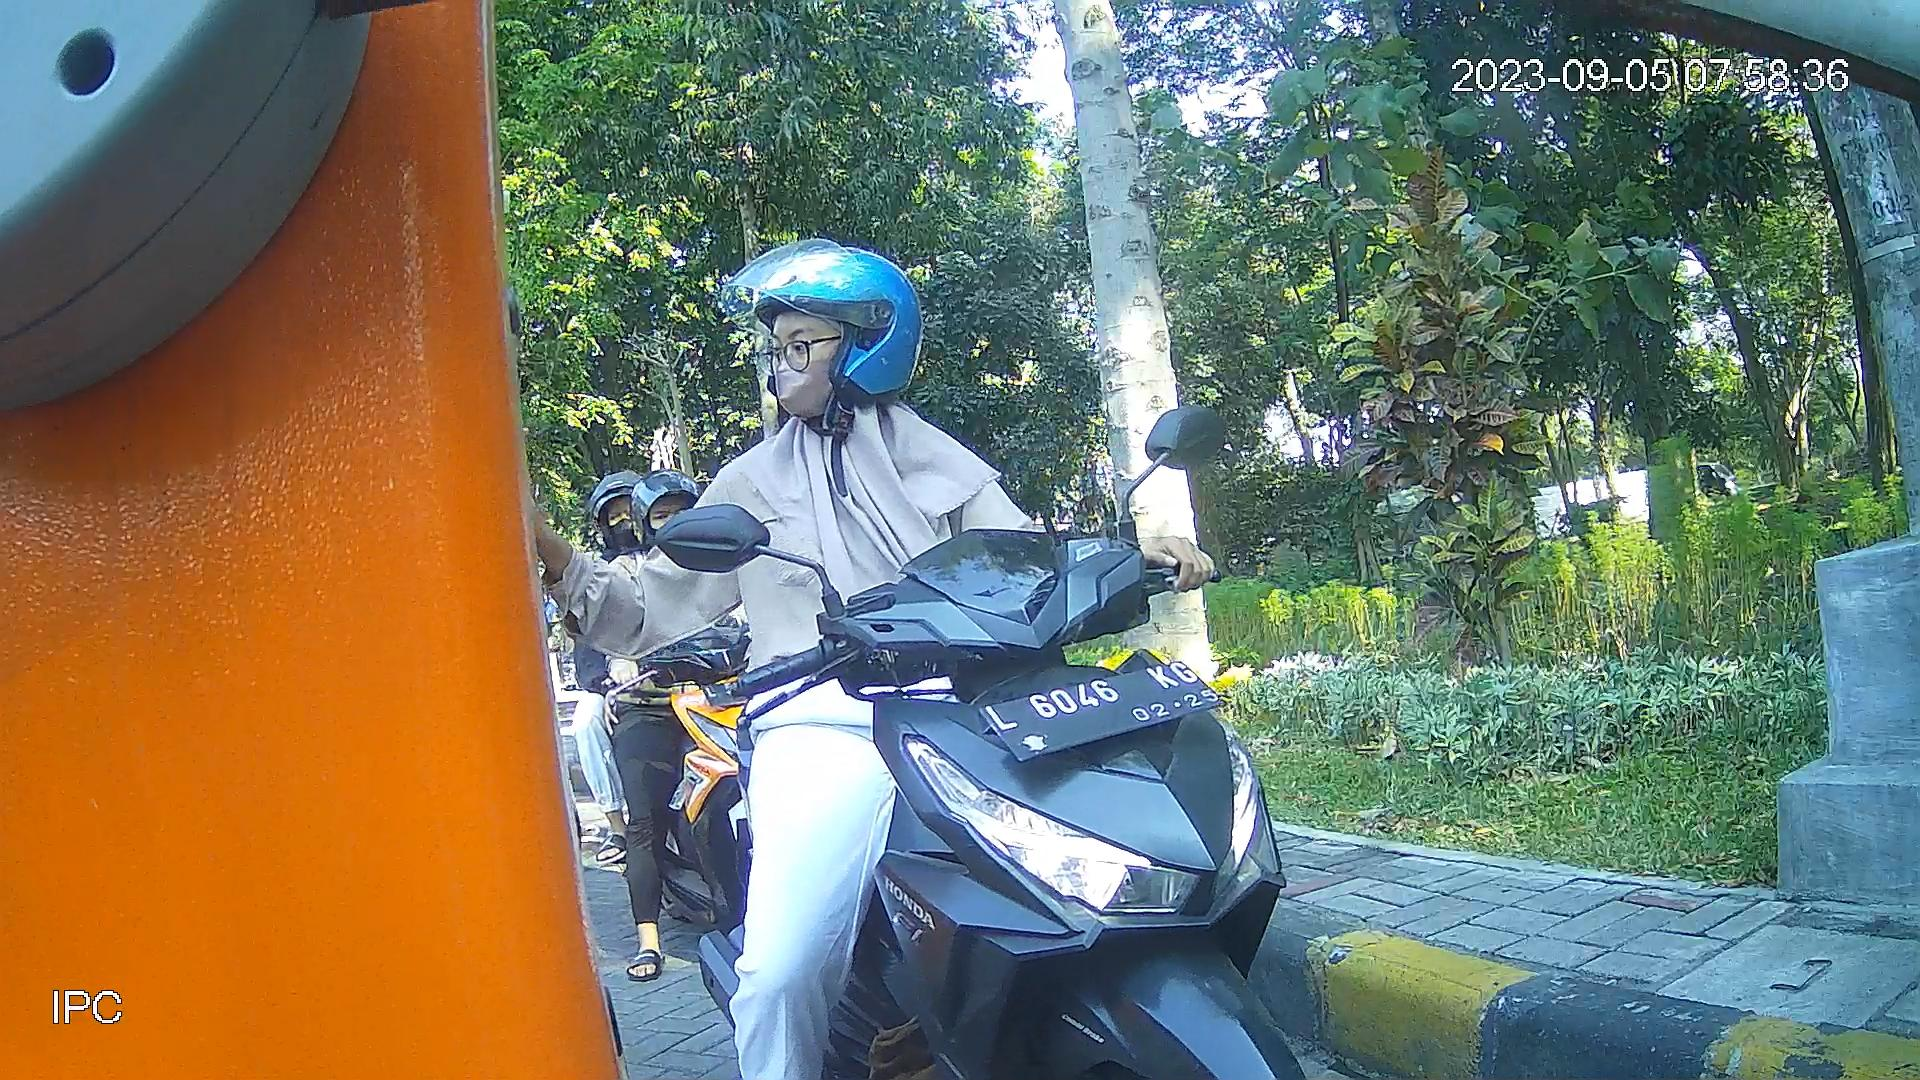plat: (975, 658, 1232, 765)
